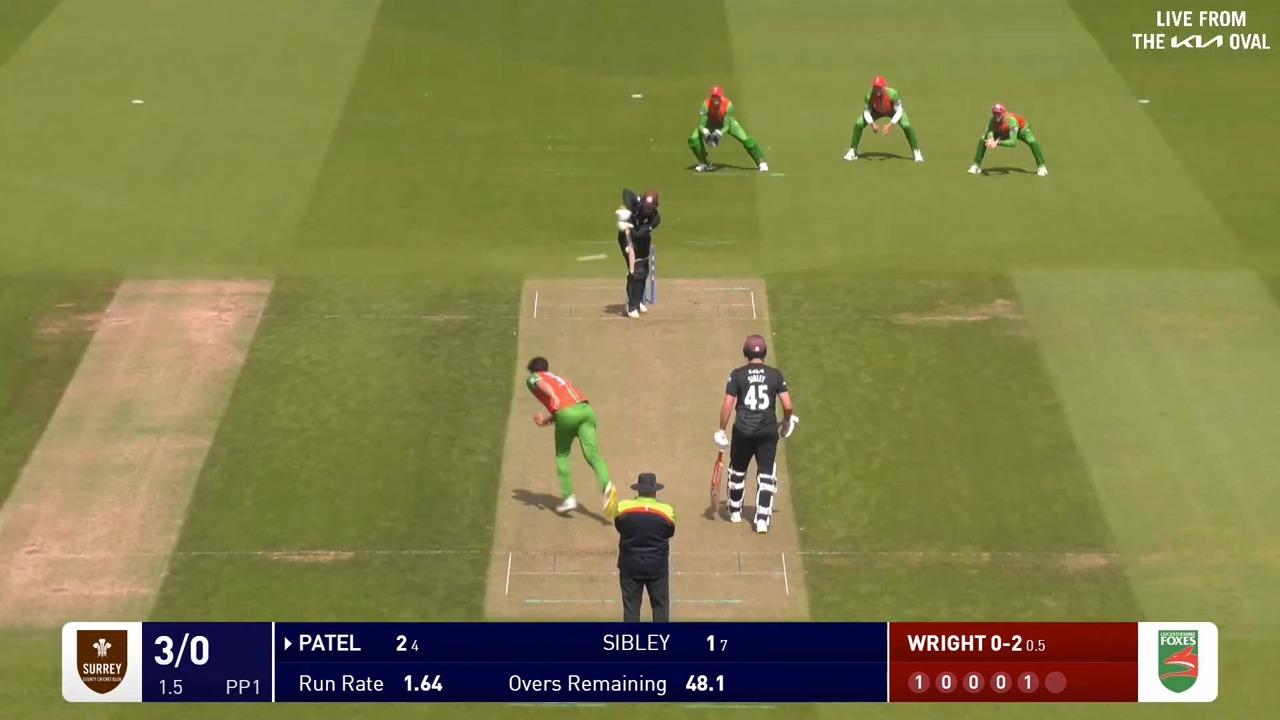sports ball: (577, 254, 606, 260)
